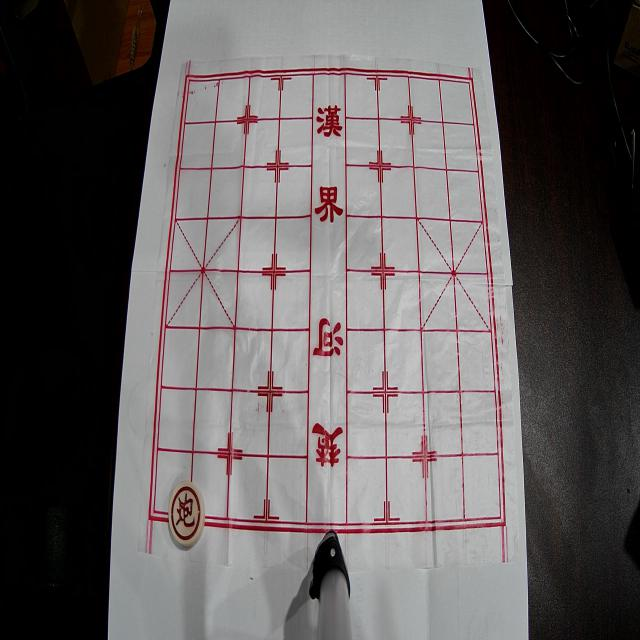red-cannon: (168, 481, 206, 547)
